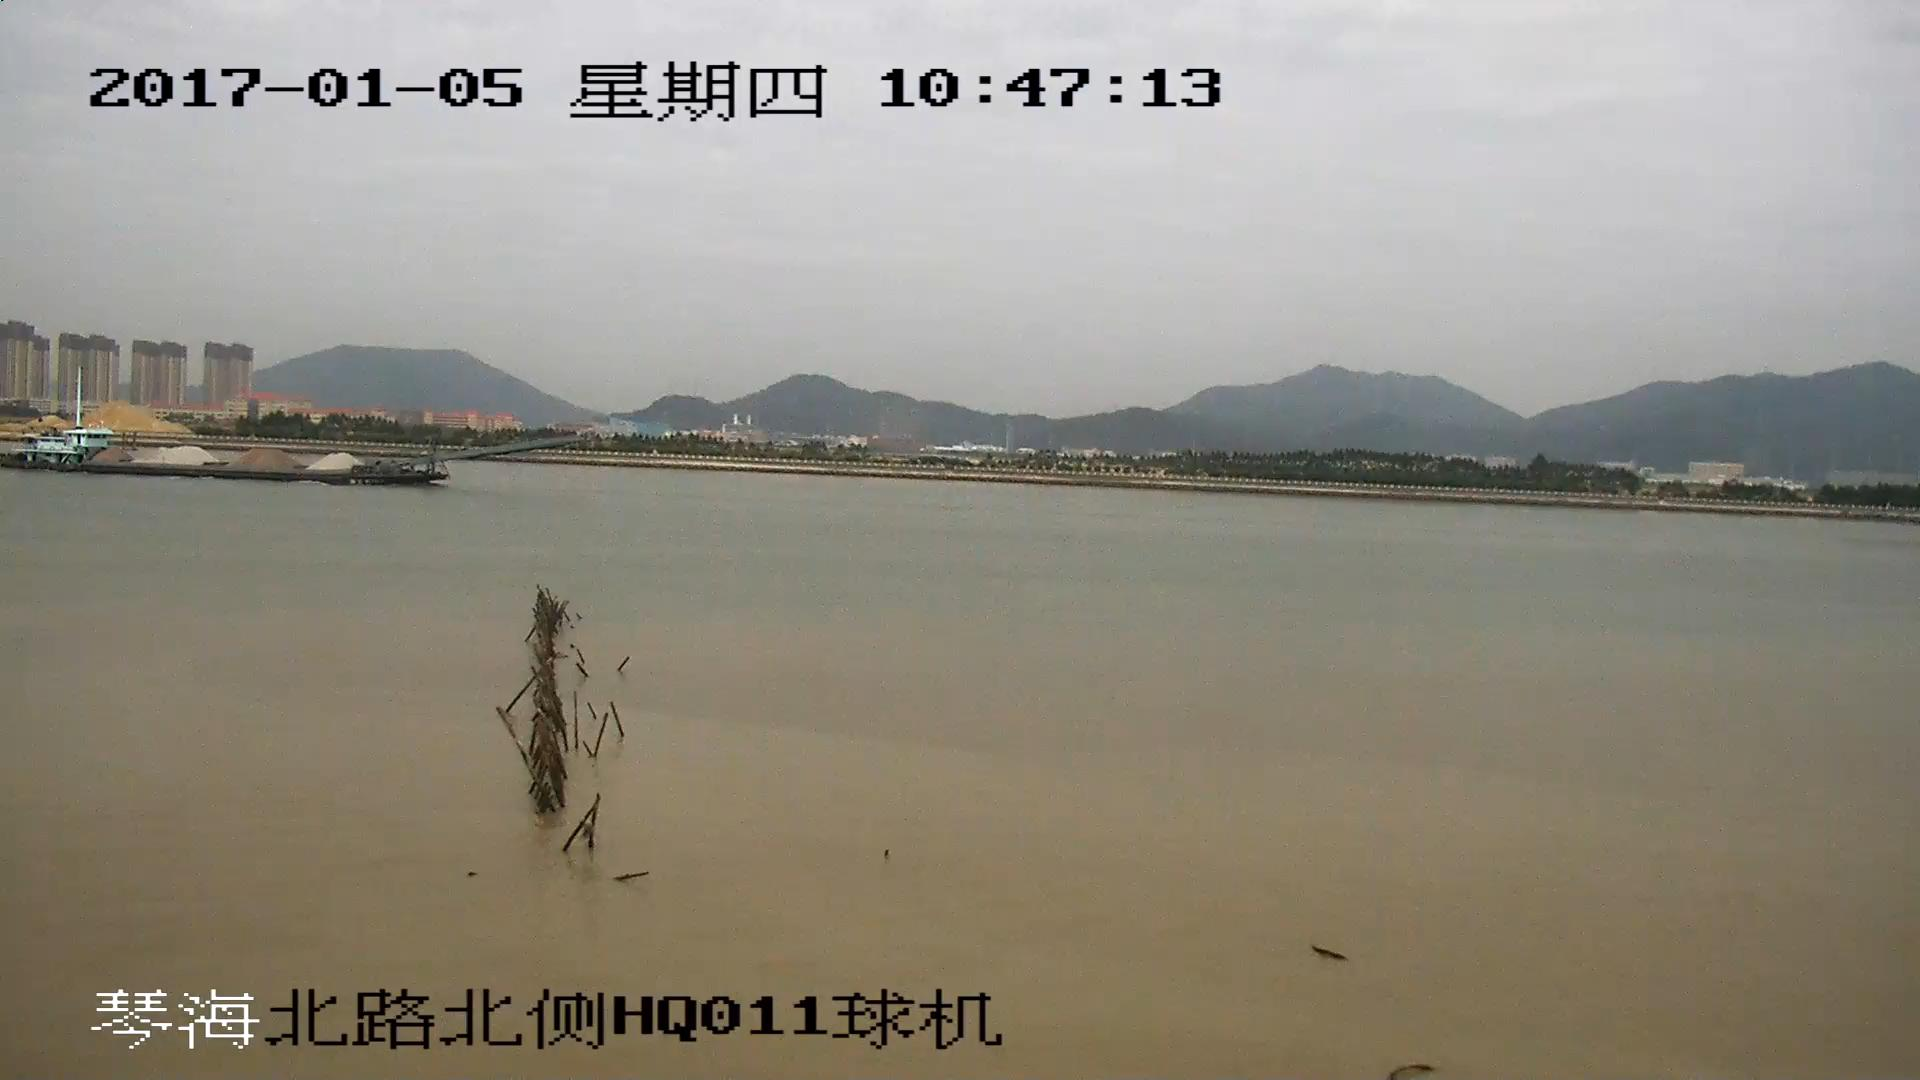ore carrier: (1, 370, 560, 488)
